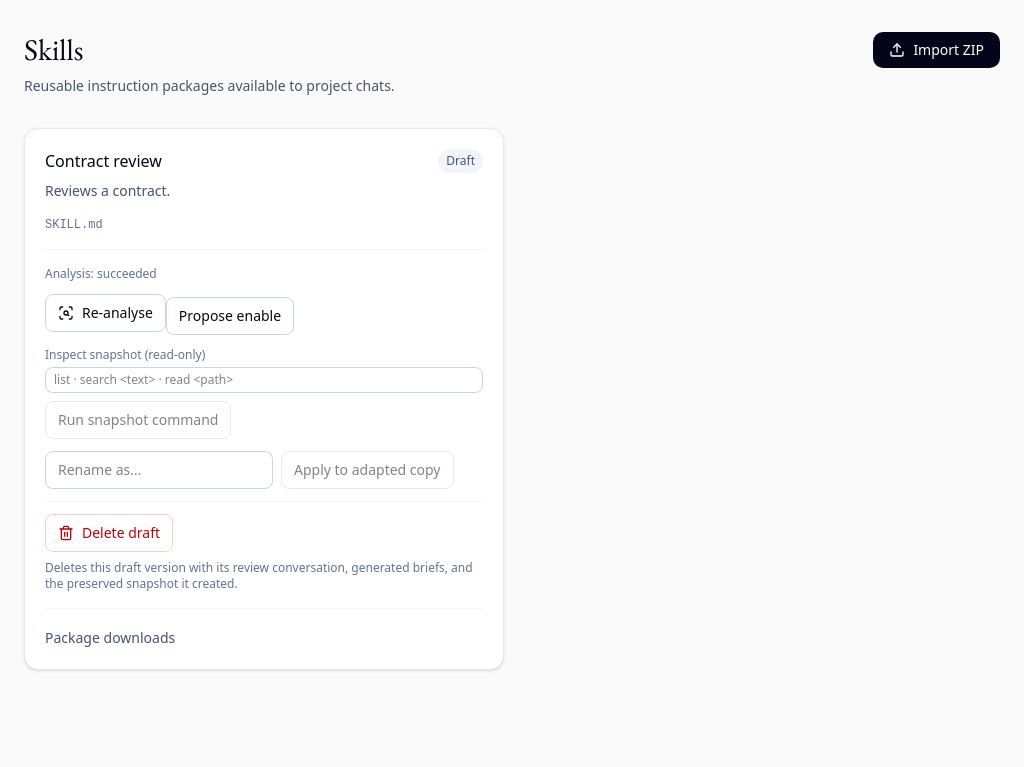
Test case: SkillsLibrary › lists every capability mapping, not only the unresolved ones
Click the button "Propose enable" at (230, 316), box [166,297,294,335]
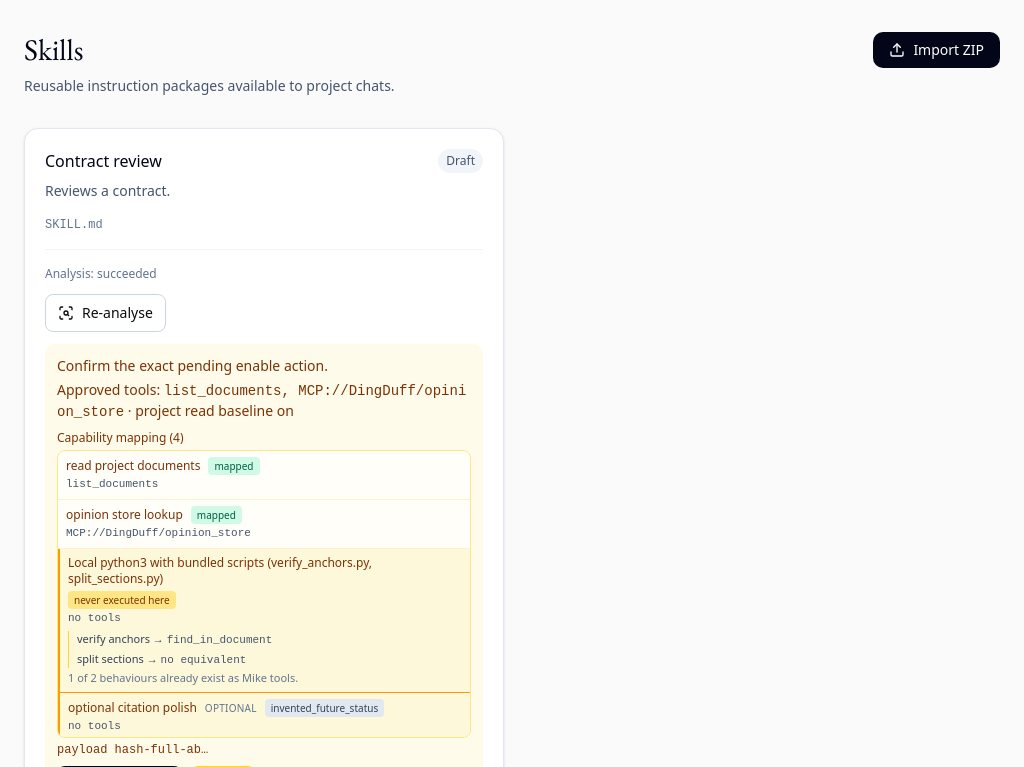
Now the text "Capability mapping (4)" is shown, box [57,429,184,446]
Now the text "read project documents" is shown, box [66,458,200,474]
Now the text "opinion store lookup" is shown, box [66,507,183,523]
